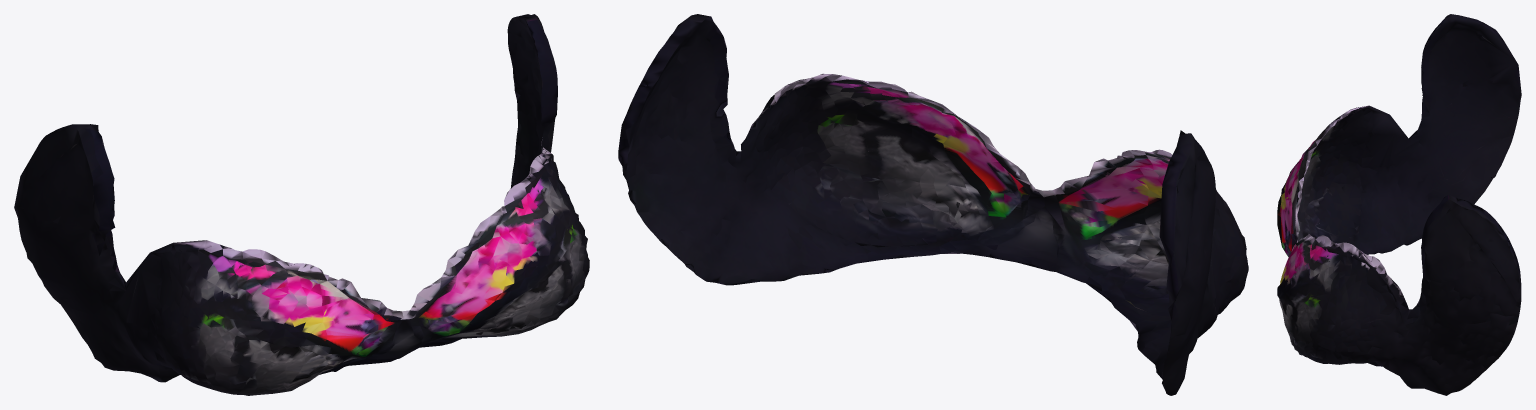
File: bra.glb
3 renders of one model, left to right at view 1: azimuth 30°, elevation 25°; view 2: azimuth 150°, elevation 25°; view 3: azimuth 270°, elevation 25°, orthographic. The views are drawn at different scales.
Visible parts, largest first — view 1: texture_pbr_v128; view 2: texture_pbr_v128; view 3: texture_pbr_v128.
Part boxes in pixels (x1,y1,x2,y2): texture_pbr_v128: [14, 14, 589, 395]; texture_pbr_v128: [618, 14, 1248, 395]; texture_pbr_v128: [1277, 14, 1521, 395].
Size of the model in its own units: 1.63 by 0.7634 by 0.8052.
Materials: 1 (1 with a texture image).
